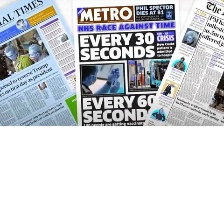news_paper: (78, 0, 179, 127), (141, 0, 224, 128), (0, 0, 78, 128)
